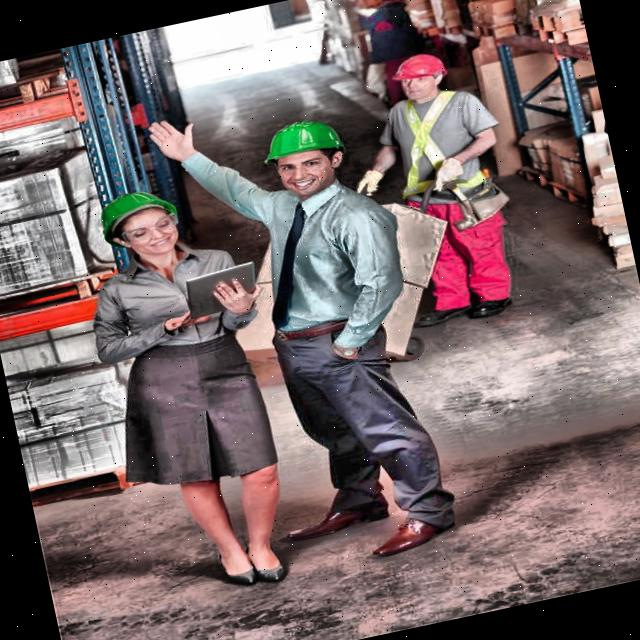helmet: (88, 171, 198, 282), (253, 102, 355, 202), (378, 40, 463, 118)
